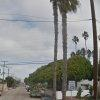Palm tree: (47, 1, 91, 78)
